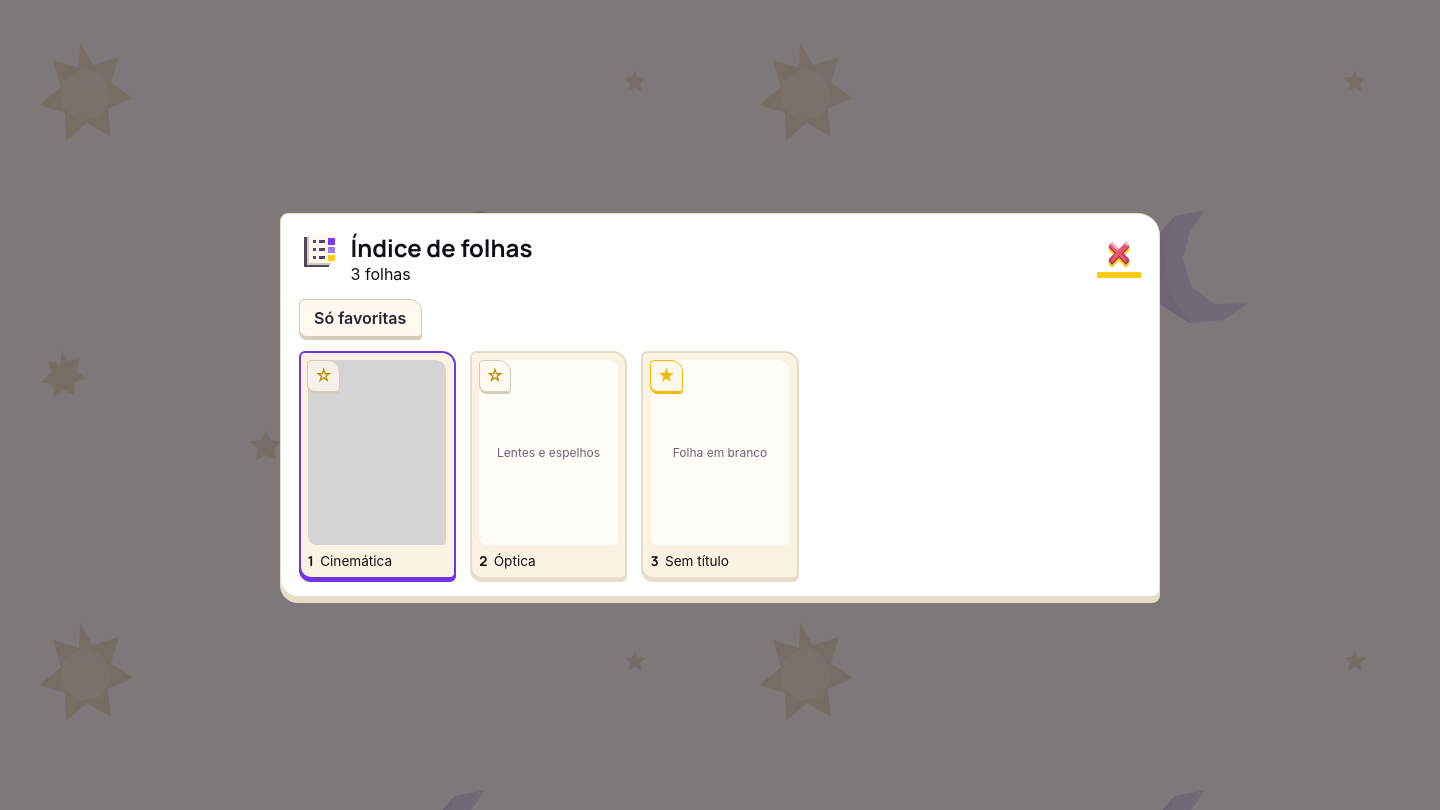
Scenario: índice de folhas › o filtro Só favoritas mostra apenas as folhas favoritas, mantendo a numeração original
This screenshot has width=1440, height=810.
Expected: the text "3 folhas" is shown, [351,264,411,284]
Step 1. Click the button "Só favoritas" → [360, 318], box [299,299,422,337]
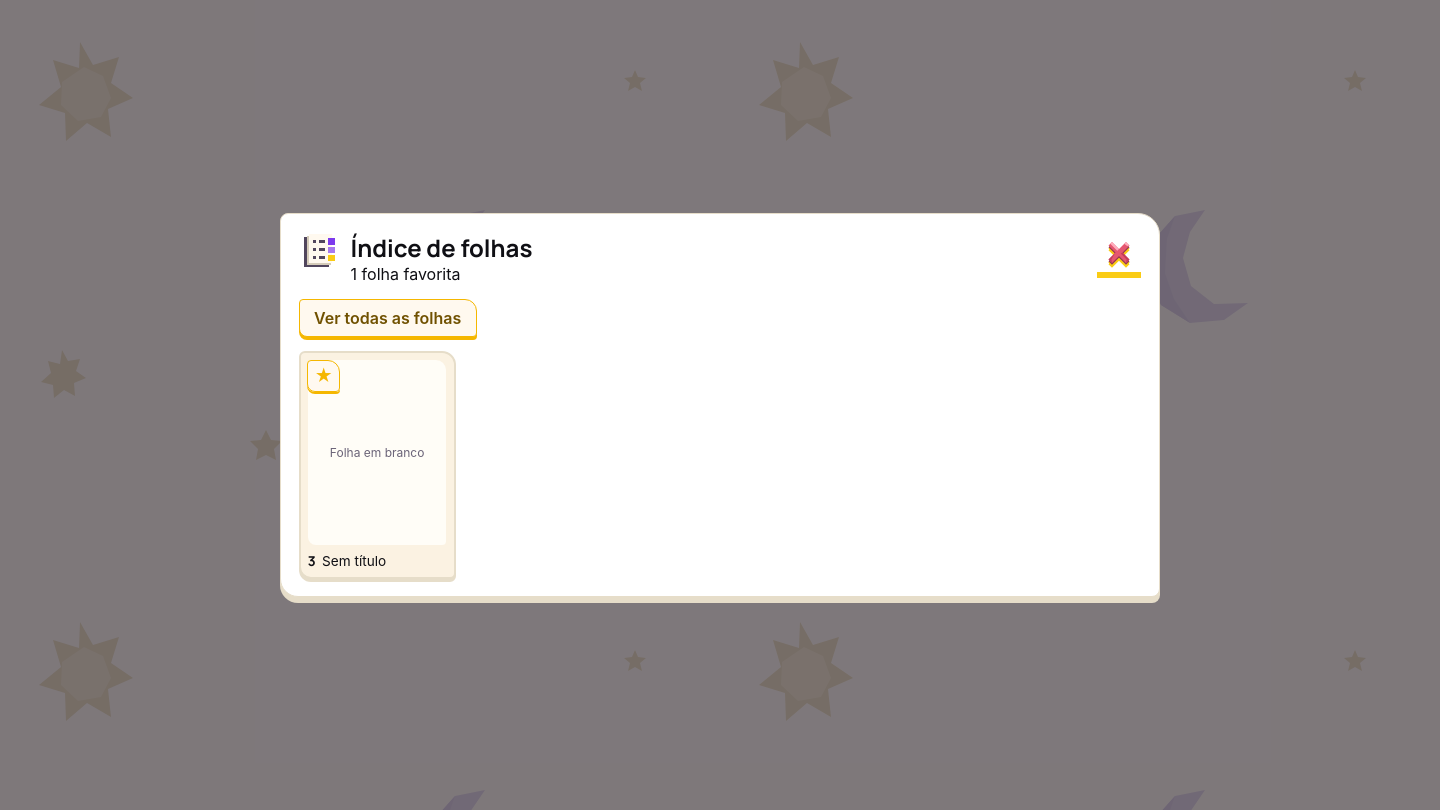
Expected: the button with aria-label "Folha 3: Sem título" is shown, [299,351,456,579]
Result: the text "1 folha favorita" is shown at [351,264,460,284]
Step 2. Click the button "Ver todas as folhas" → [388, 318], box [299,299,477,337]
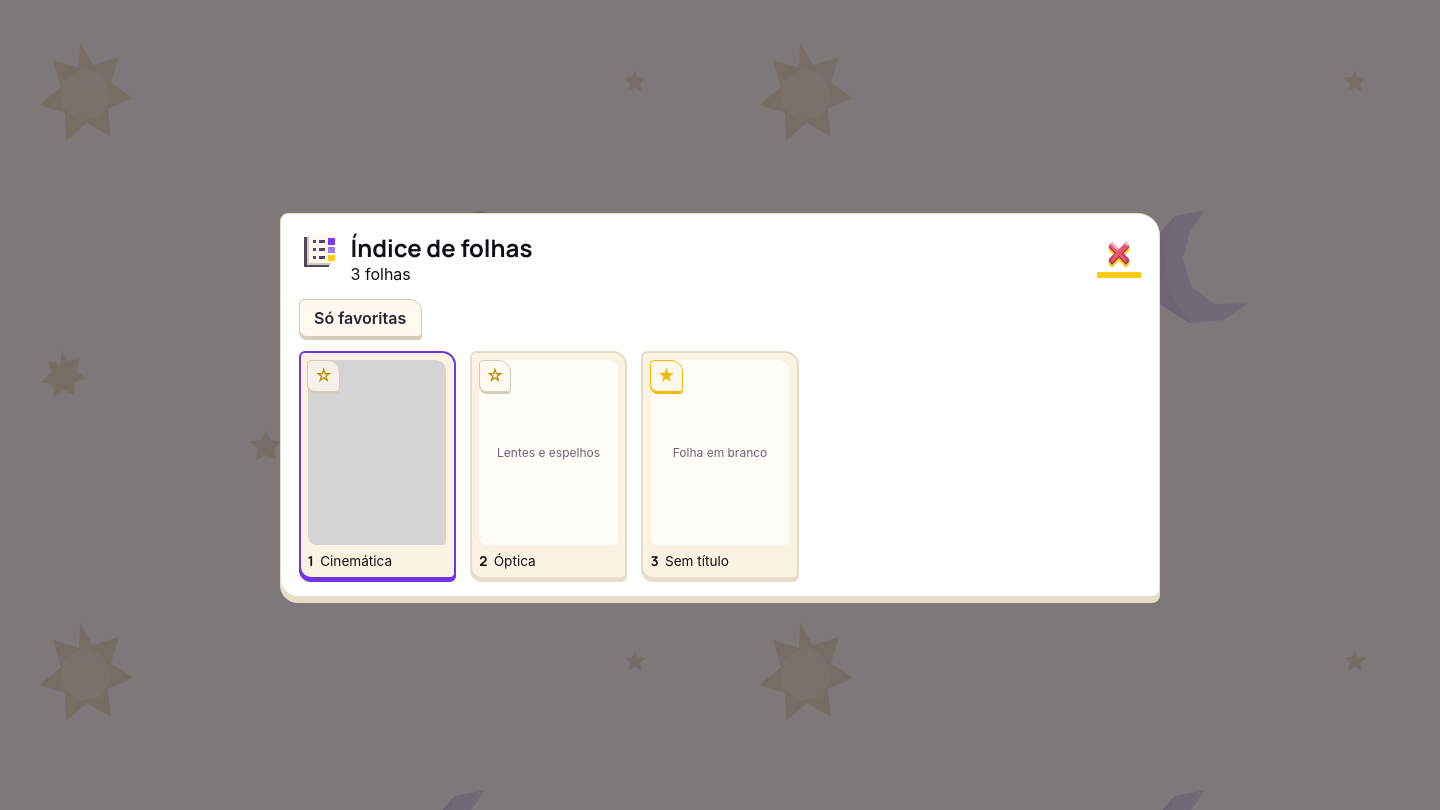
Result: the text "3 folhas" is shown at [351,264,411,284]
